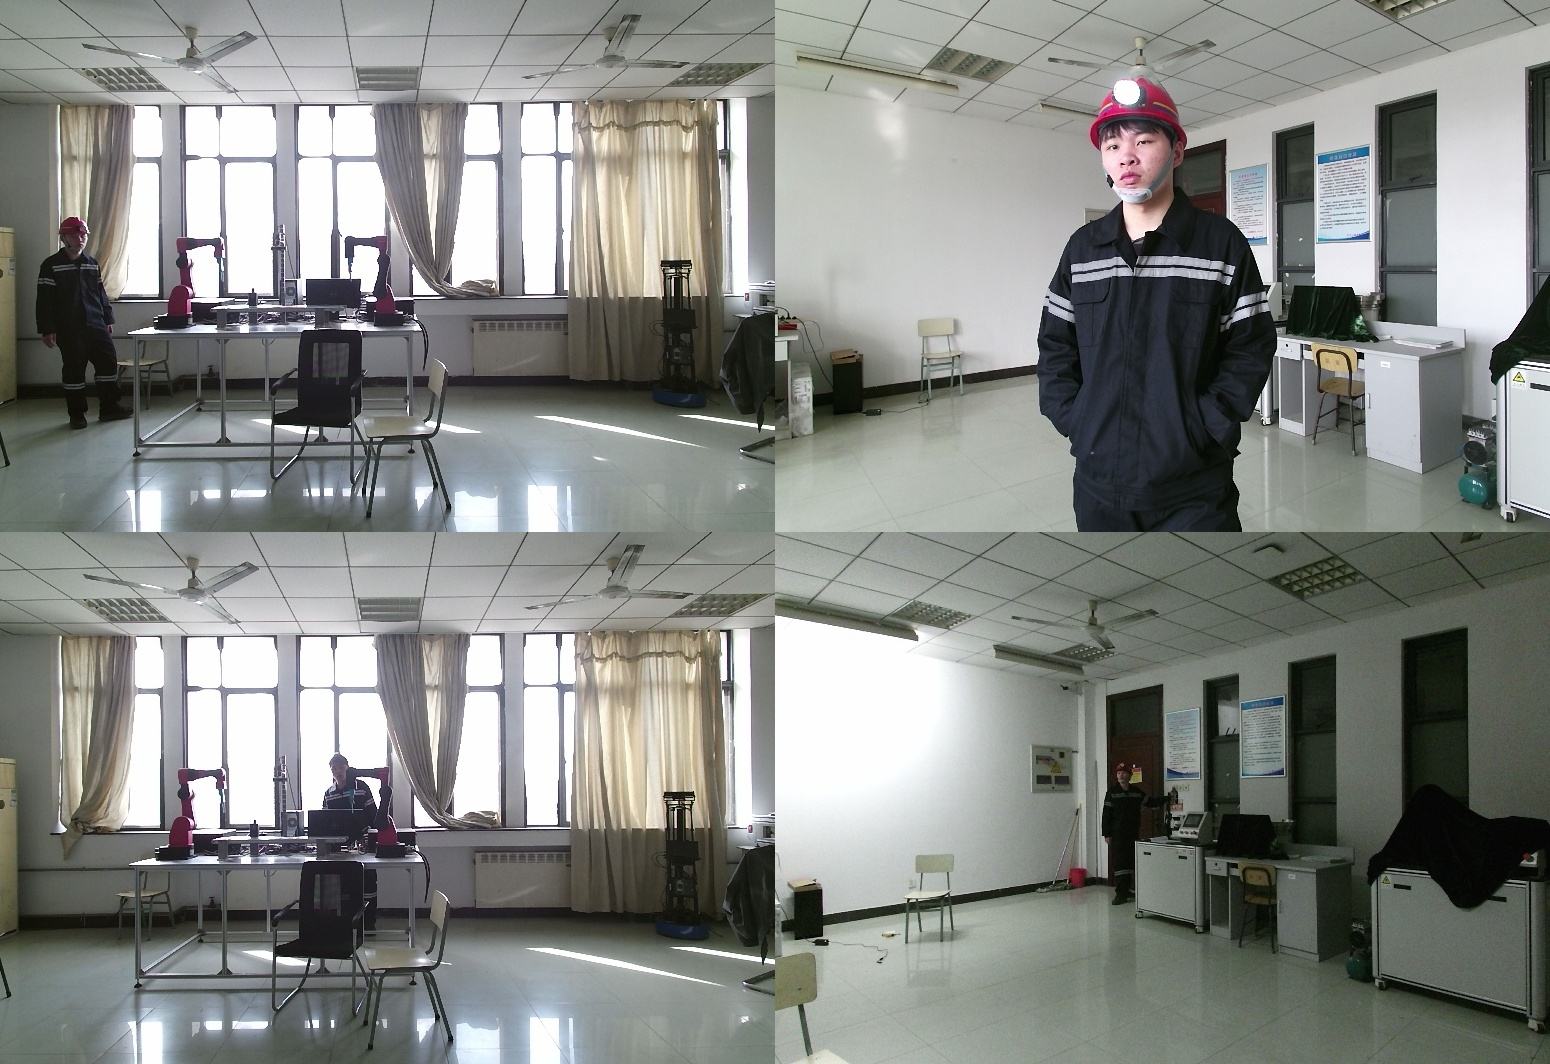person: (1039, 78, 1296, 532), (31, 219, 134, 429), (315, 755, 381, 935), (1097, 760, 1151, 908)
